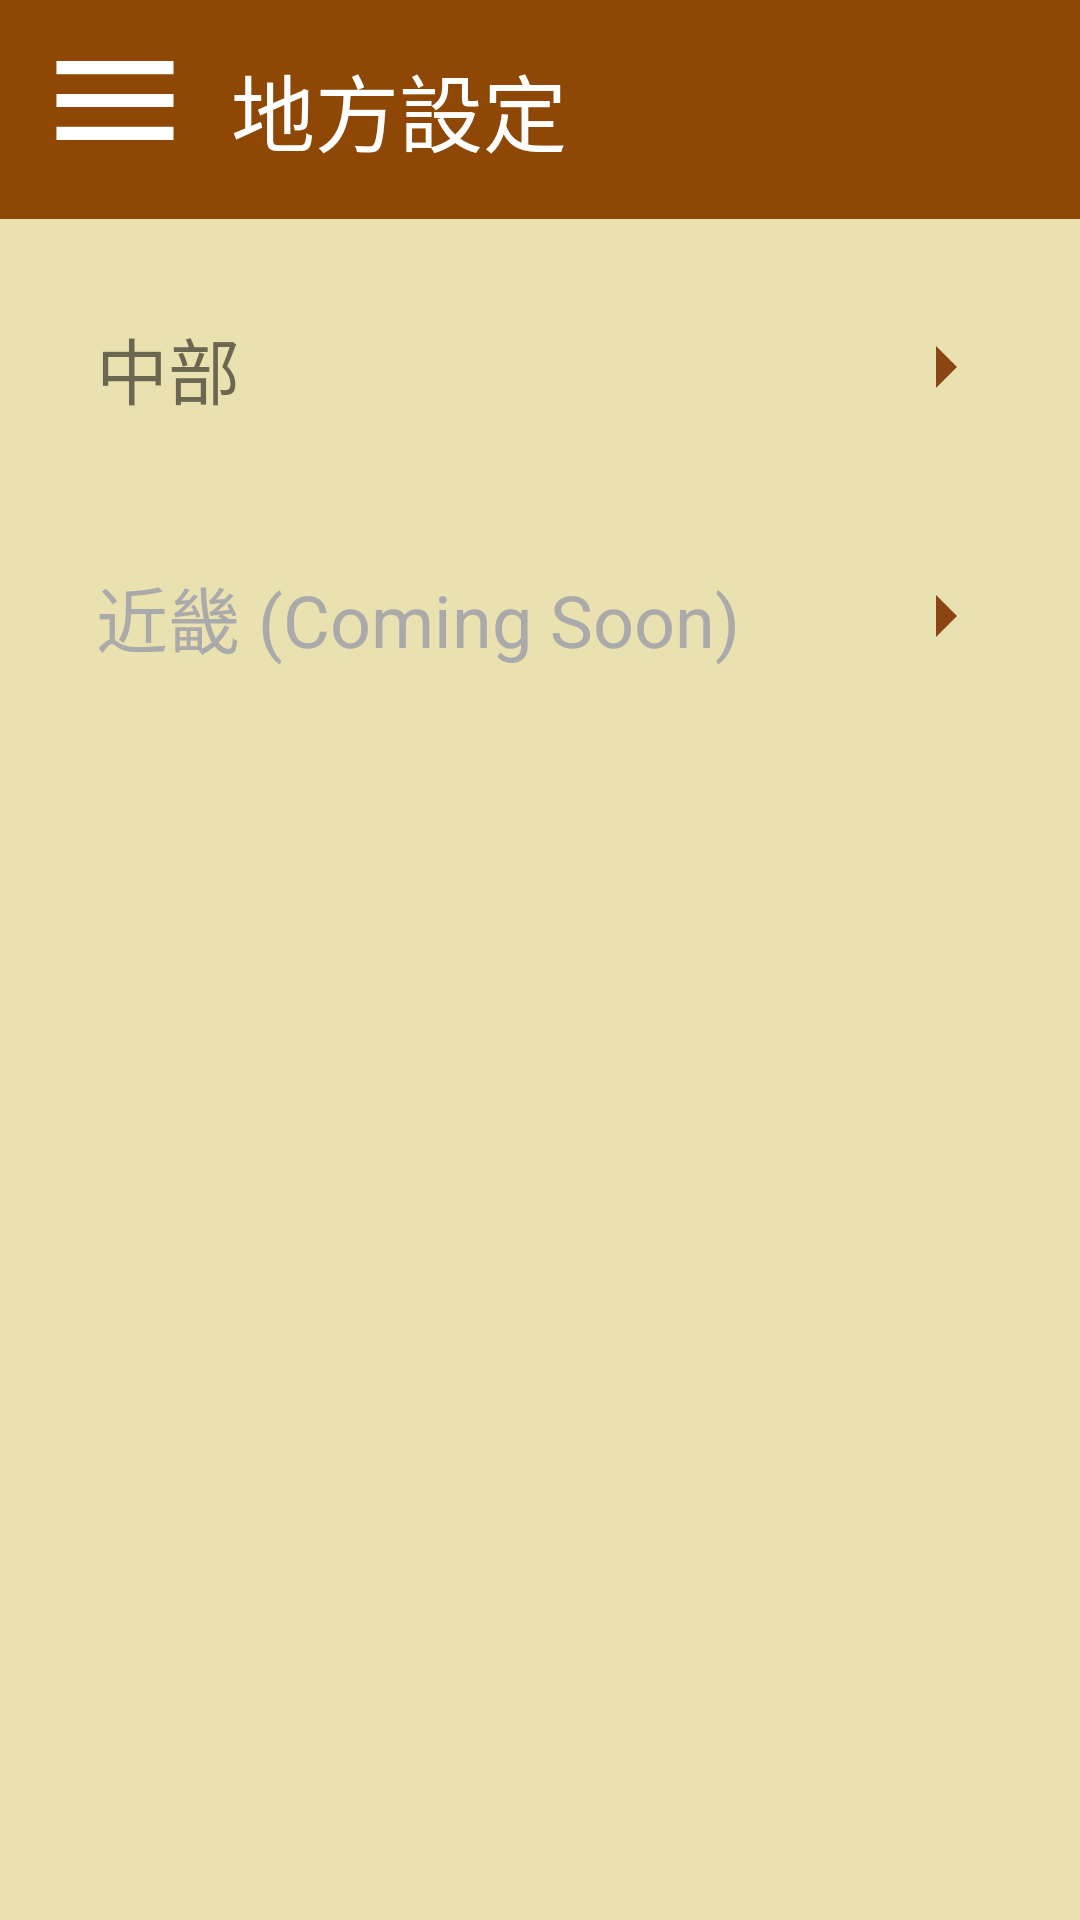

Where to tap for icons on this 1080×1920 app screen, as [x,y]:
menu: [115,100]
